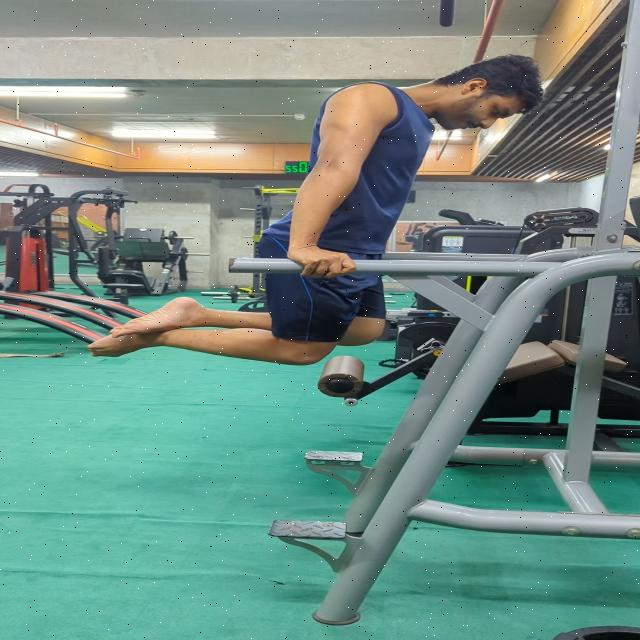Normal_Dips: (65, 48, 557, 385)
